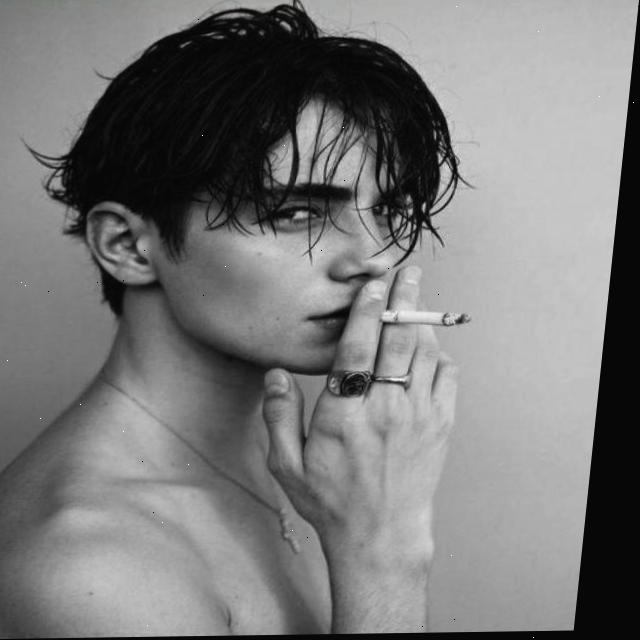cigarette: (383, 309, 480, 326)
